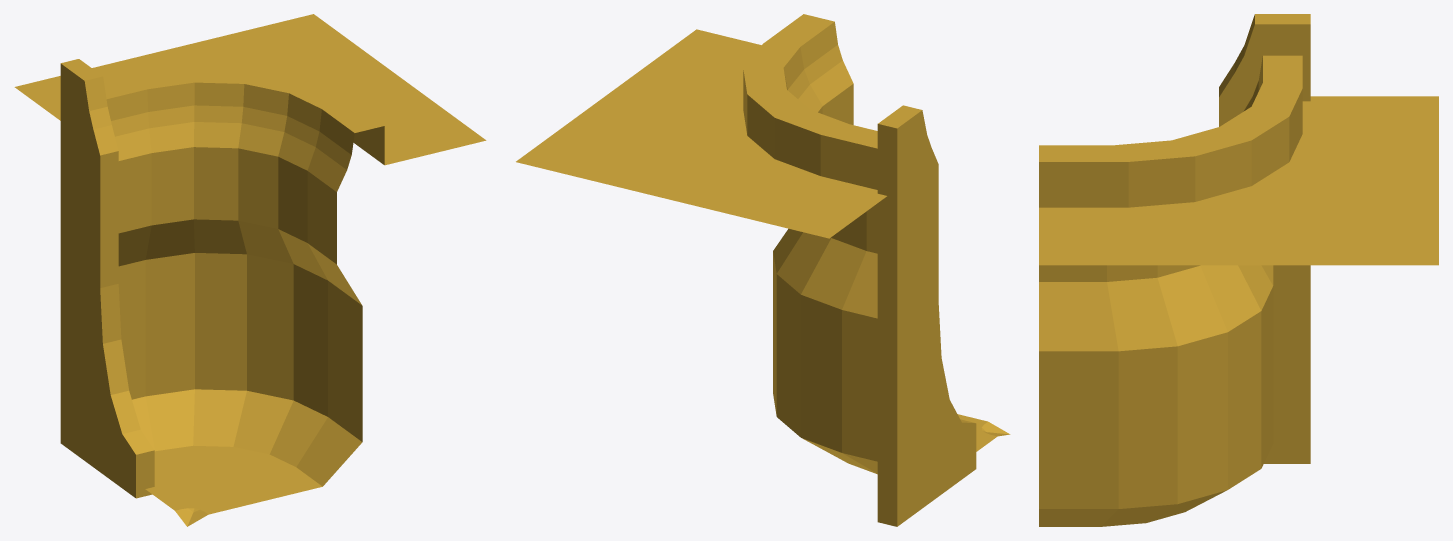
File: WallSection_Corner_Inner.fbx
3 views of the same model, side by side, from view 1: azimuth 30°, elevation 25°; view 2: azimuth 150°, elevation 25°; view 3: azimuth 270°, elevation 25° (orthographic). The views are drawn at different scales.
Parts seen in each view (by area): view 1: WallSection_1.001; view 2: WallSection_1.001; view 3: WallSection_1.001.
Boxes of the visible parts, x1,y1,x2,y2 form: WallSection_1.001: (14,14,486,526); WallSection_1.001: (516,14,1010,526); WallSection_1.001: (1039,14,1438,526).
Bounding box in the file's own units: 206 × 243 × 200.
